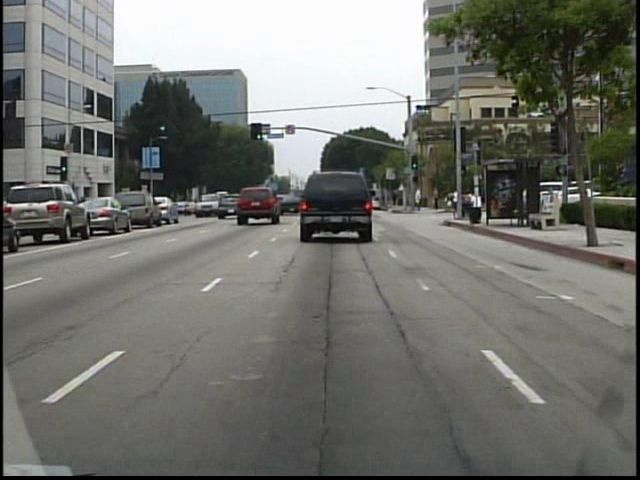person: (412, 184, 425, 214), (430, 181, 442, 213), (391, 186, 400, 209)
